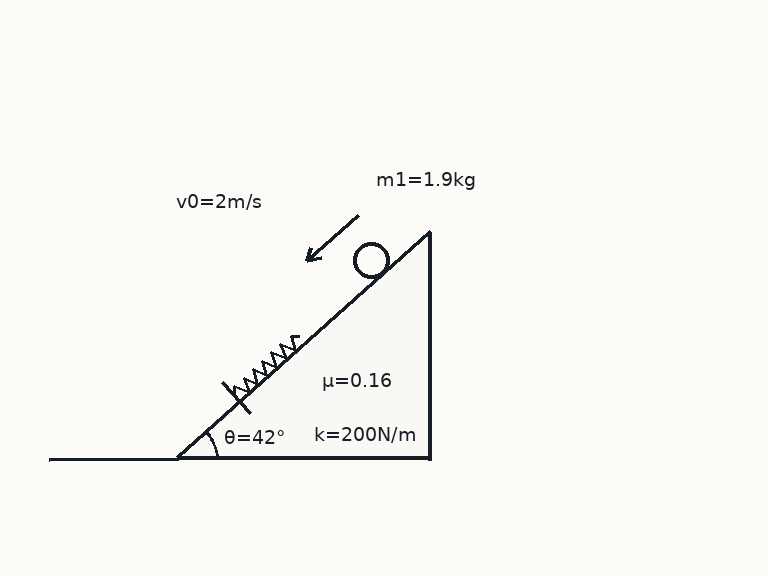ball: (351, 240, 391, 280)
ramp: (175, 230, 431, 461)
spring: (232, 334, 301, 398)
